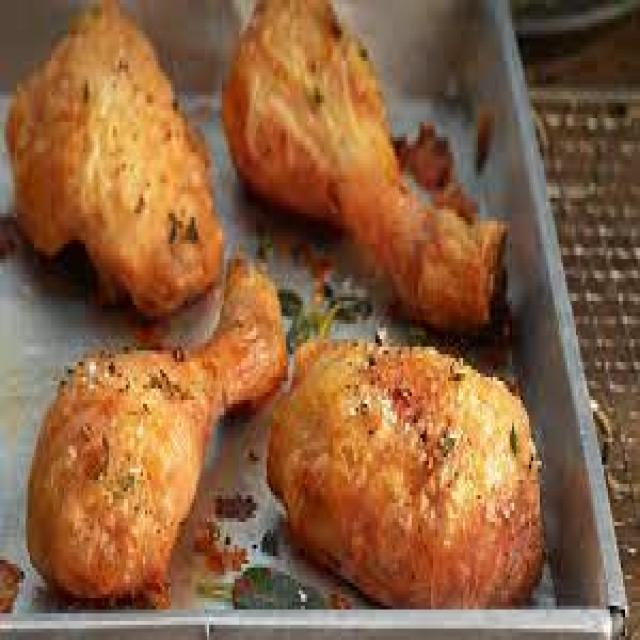Frango: (8, 8, 554, 602)
